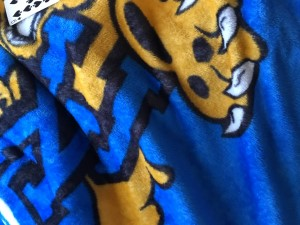NineOfSpades: (1, 1, 62, 25)
